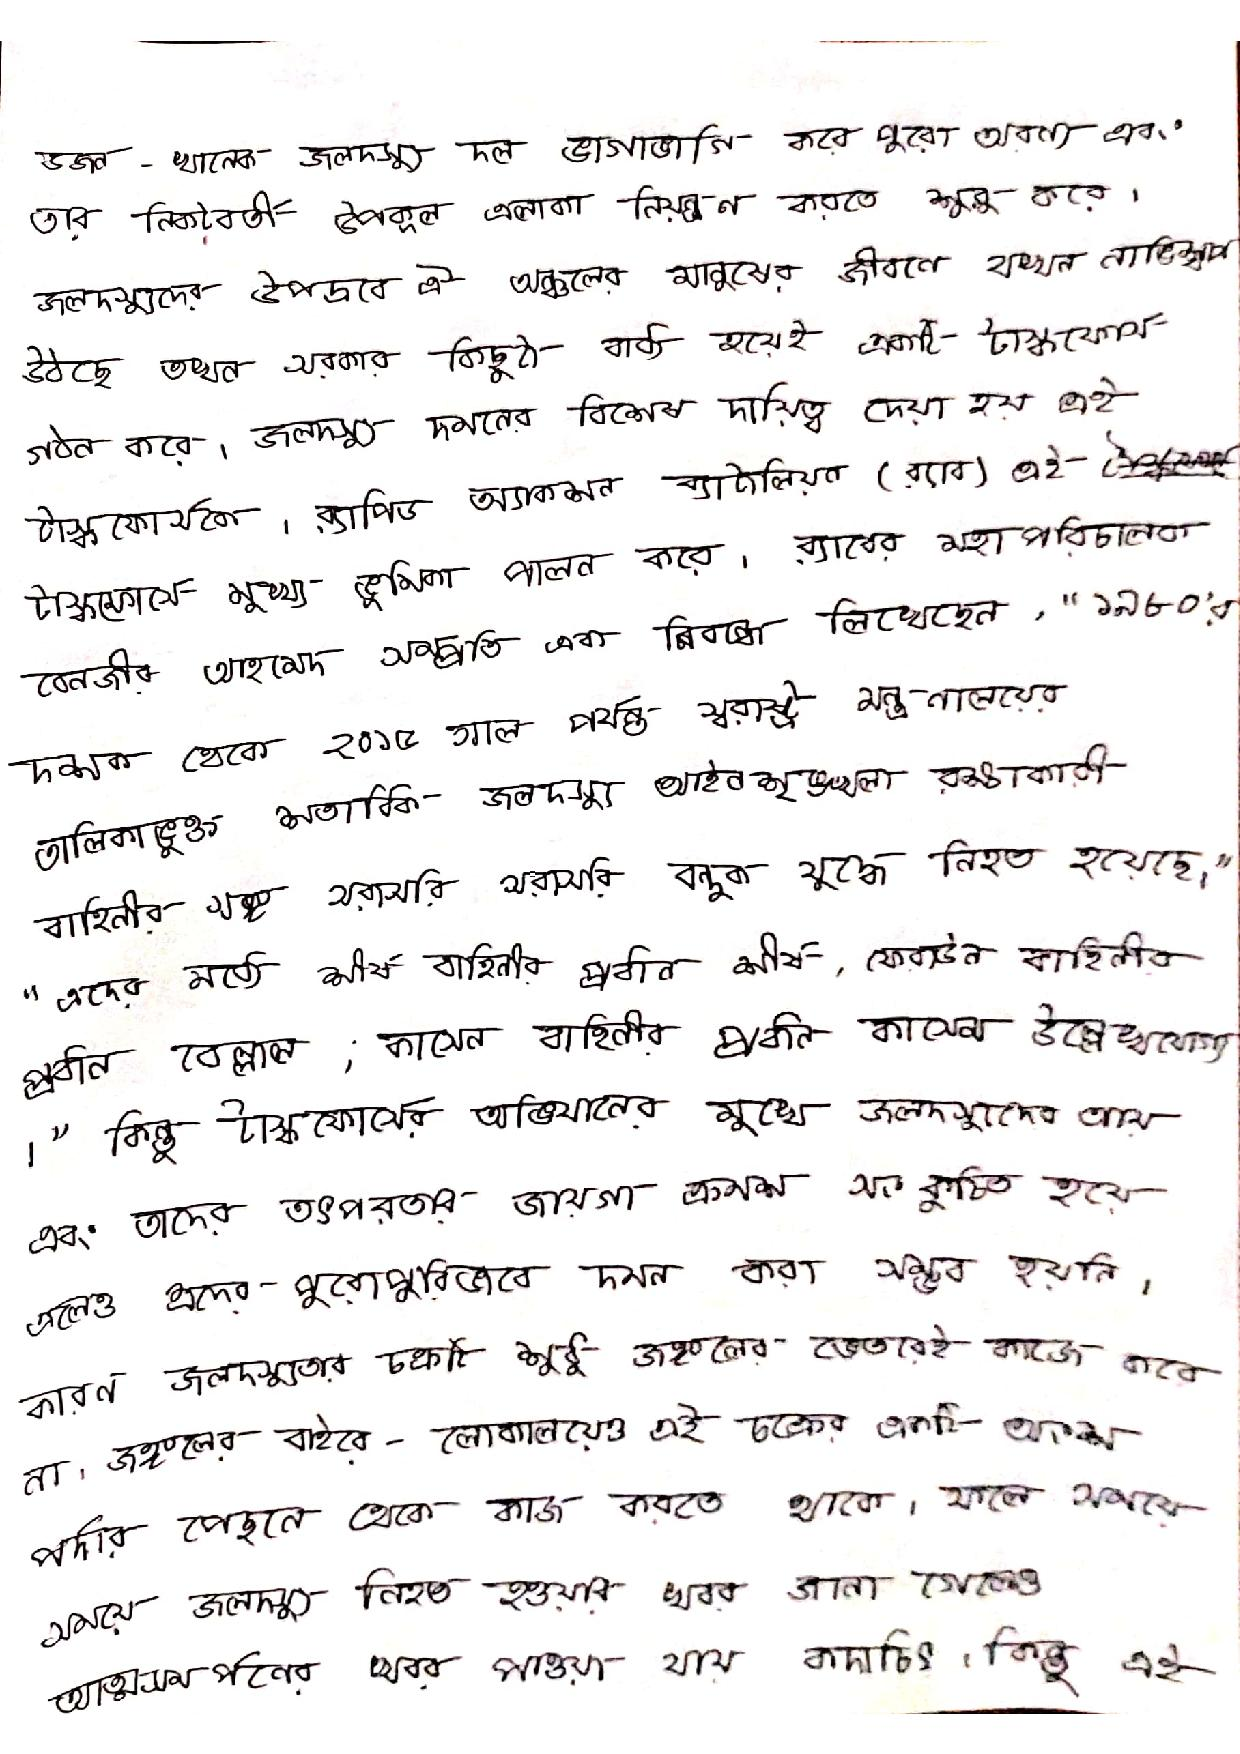line: (39, 827, 1235, 950), (34, 743, 1129, 878), (25, 586, 1228, 703), (25, 515, 1208, 621), (21, 1321, 1221, 1424), (25, 443, 1091, 557), (24, 1001, 1239, 1100), (17, 680, 1070, 794), (21, 1400, 1151, 1503), (31, 1480, 1208, 1578), (48, 1620, 1205, 1716), (34, 234, 1235, 323), (25, 1168, 1172, 1257), (25, 1245, 1154, 1337), (25, 929, 1205, 1016), (25, 381, 1142, 471), (21, 307, 1169, 388), (38, 1559, 1048, 1651), (31, 1092, 1188, 1172), (25, 176, 1142, 254), (35, 114, 1185, 184)
